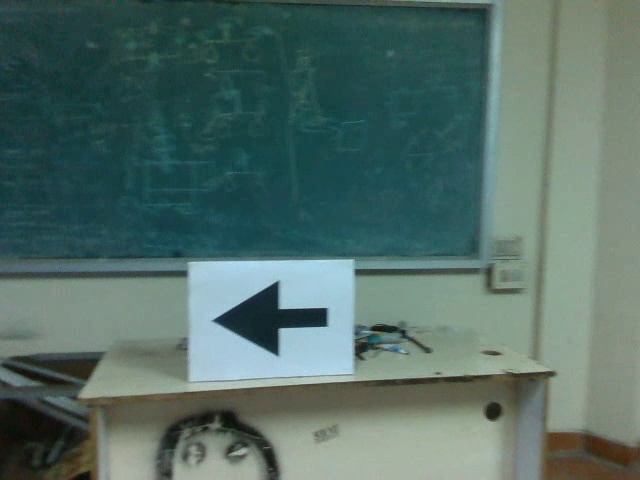Left: (203, 275, 335, 363)
